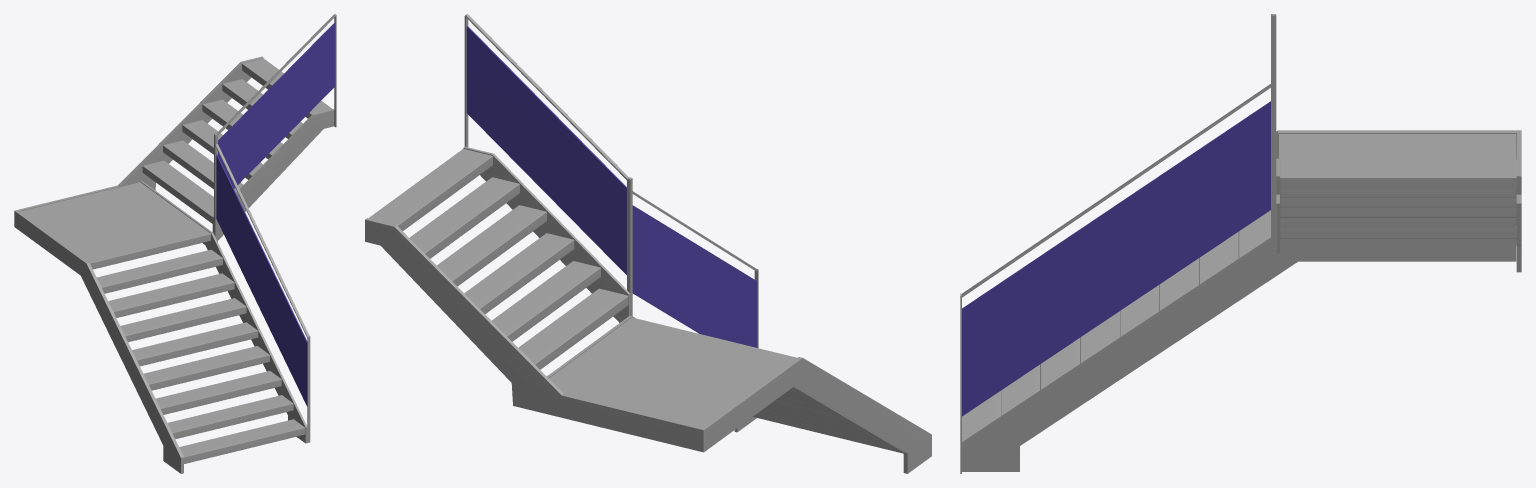
File: Treppe.fbx
The picture shows the model from 3 angles, left to right: view 1: azimuth 30°, elevation 25°; view 2: azimuth 150°, elevation 25°; view 3: azimuth 270°, elevation 25°; orthographic projection. The views are drawn at different scales.
Visible parts, largest first — view 1: Export; view 2: Export; view 3: Export.
Part boxes in pixels (box(x1,y1,x2,y2)): Export: box(14, 14, 336, 473); Export: box(365, 14, 931, 473); Export: box(960, 14, 1521, 473).
Bounding box in the file's own units: 366 × 466 × 426.
